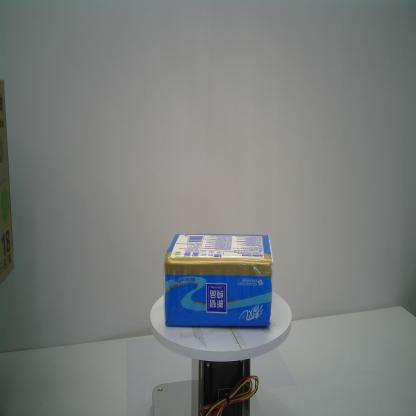Tissue: (162, 231, 274, 329)
